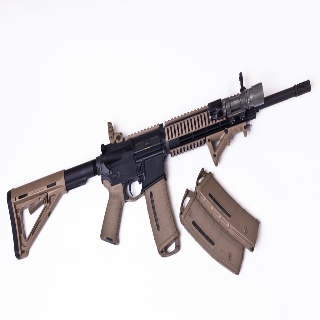rifle: (7, 72, 312, 260)
